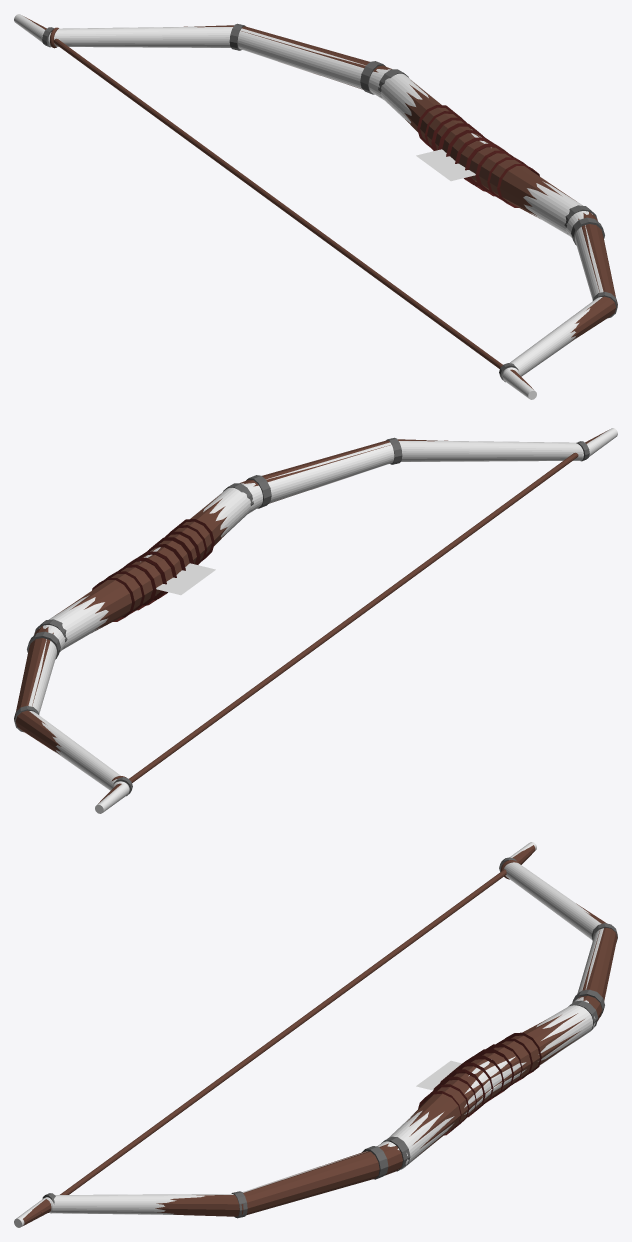
The model's file is bow1.fbx.
The picture shows the model from 3 angles, top to bottom: view 1: azimuth 30°, elevation 25°; view 2: azimuth 150°, elevation 25°; view 3: azimuth 330°, elevation 25°; orthographic projection.
Parts seen in each view (by area): view 1: Cylinder.001, Cylinder, Plane; view 2: Cylinder.001, Cylinder, Plane; view 3: Cylinder.001, Cylinder.
Boxes of the visible parts, left/top/right/bottom form: Cylinder.001: left=24, top=16, right=617, bottom=389; Cylinder: left=14, top=14, right=603, bottom=399; Plane: left=416, top=149, right=475, bottom=181; Cylinder.001: left=14, top=430, right=607, bottom=803; Cylinder: left=28, top=428, right=617, bottom=813; Plane: left=156, top=563, right=215, bottom=595; Cylinder.001: left=23, top=845, right=617, bottom=1225; Cylinder: left=14, top=842, right=603, bottom=1227.
Bounding box in the file's own units: 759 × 134 × 2930.
